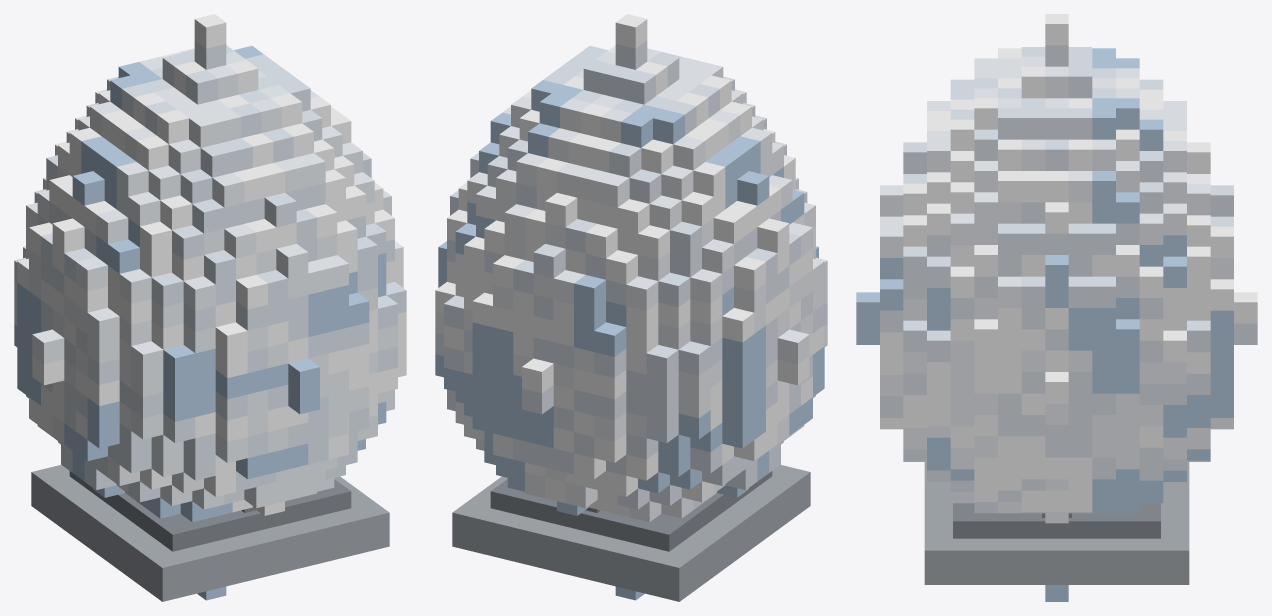
The model's file is egg_comun_nube.glb.
3 views of the same model, side by side, from view 1: azimuth 30°, elevation 25°; view 2: azimuth 150°, elevation 25°; view 3: azimuth 270°, elevation 25° (orthographic).
Parts seen in each view (by area): view 1: shell_geo, root_geo; view 2: shell_geo, root_geo; view 3: shell_geo, root_geo.
Part boxes in pixels (left/top/right/bottom): shell_geo: left=14, top=14, right=406, bottom=600; root_geo: left=31, top=464, right=389, bottom=601; shell_geo: left=435, top=14, right=827, bottom=600; root_geo: left=452, top=464, right=810, bottom=601; shell_geo: left=856, top=14, right=1257, bottom=601; root_geo: left=924, top=462, right=1189, bottom=584.
Size of the model in its own units: 4.25 by 6.75 by 4.25.
